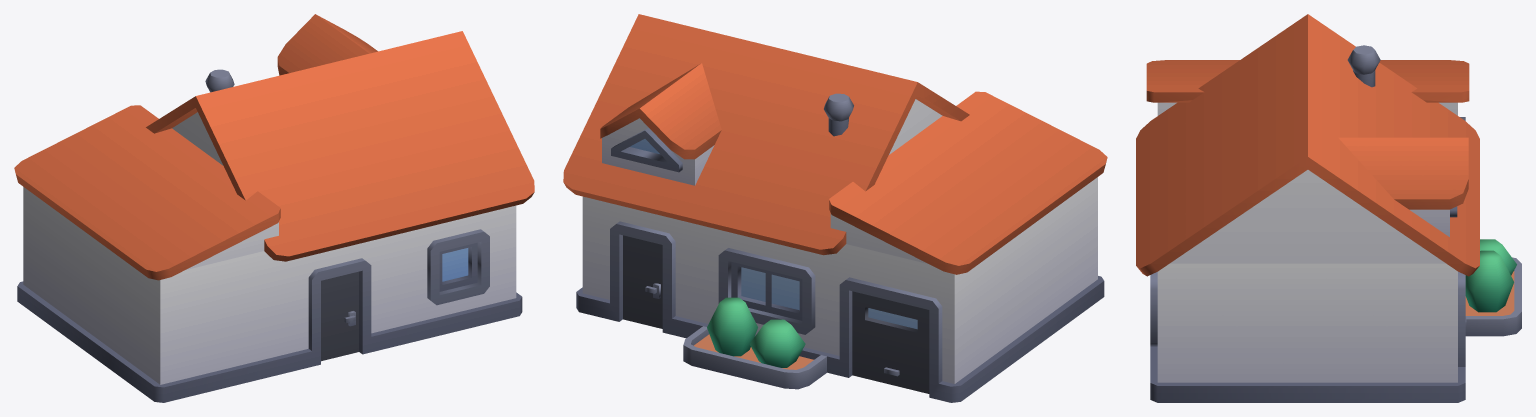
The model's file is house_suburb_i_warm.glb.
3 renders of one model, left to right at view 1: azimuth 30°, elevation 25°; view 2: azimuth 150°, elevation 25°; view 3: azimuth 270°, elevation 25°, orthographic. The views are drawn at different scales.
Visible parts, largest first — view 1: building-type-i; view 2: building-type-i; view 3: building-type-i.
Boxes of the visible parts, x1=… form: building-type-i: x1=14, y1=14, x2=534, y2=402; building-type-i: x1=563, y1=14, x2=1107, y2=402; building-type-i: x1=1136, y1=14, x2=1521, y2=402.
Bounding box in the file's own units: 1.29 × 0.7375 × 1.03.
1 material, 1 textured.
